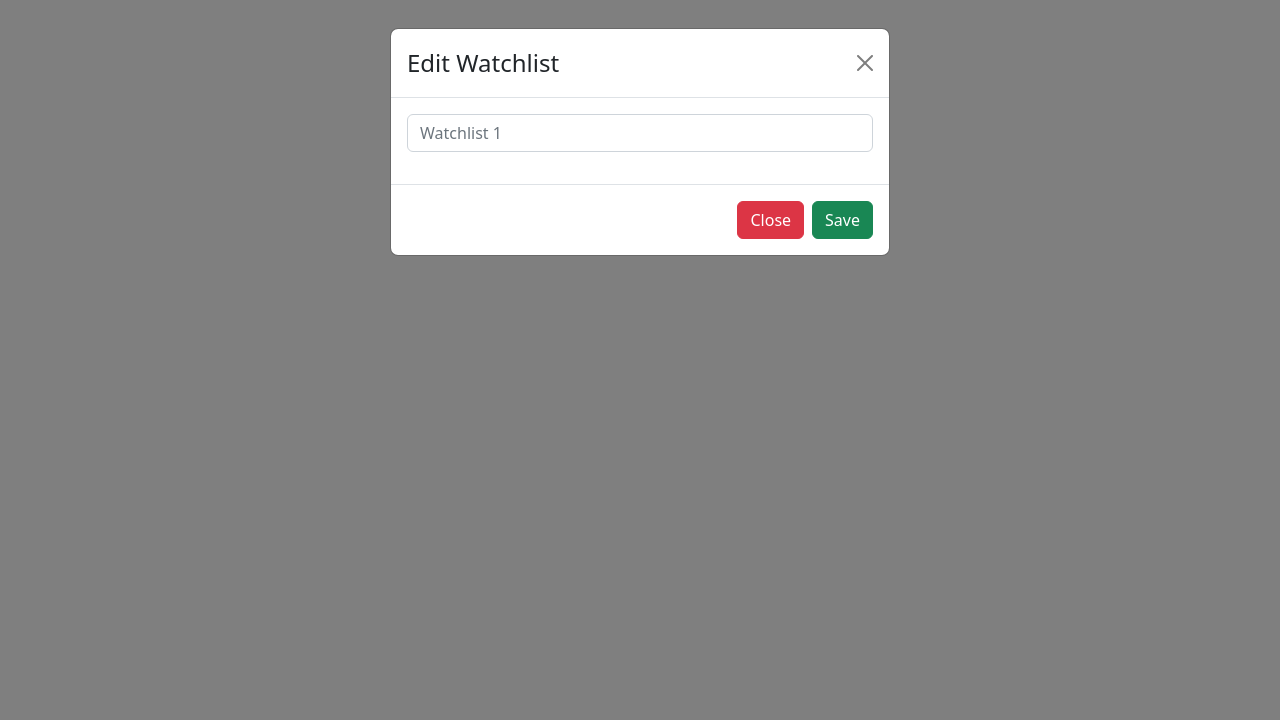
Edit Watchlist Modal › should display error message if watchlistName is not entered when Save button is clicked
Click the button "Save" at {"x": 843, "y": 220}, box x1=812 y1=201 x2=873 y2=239
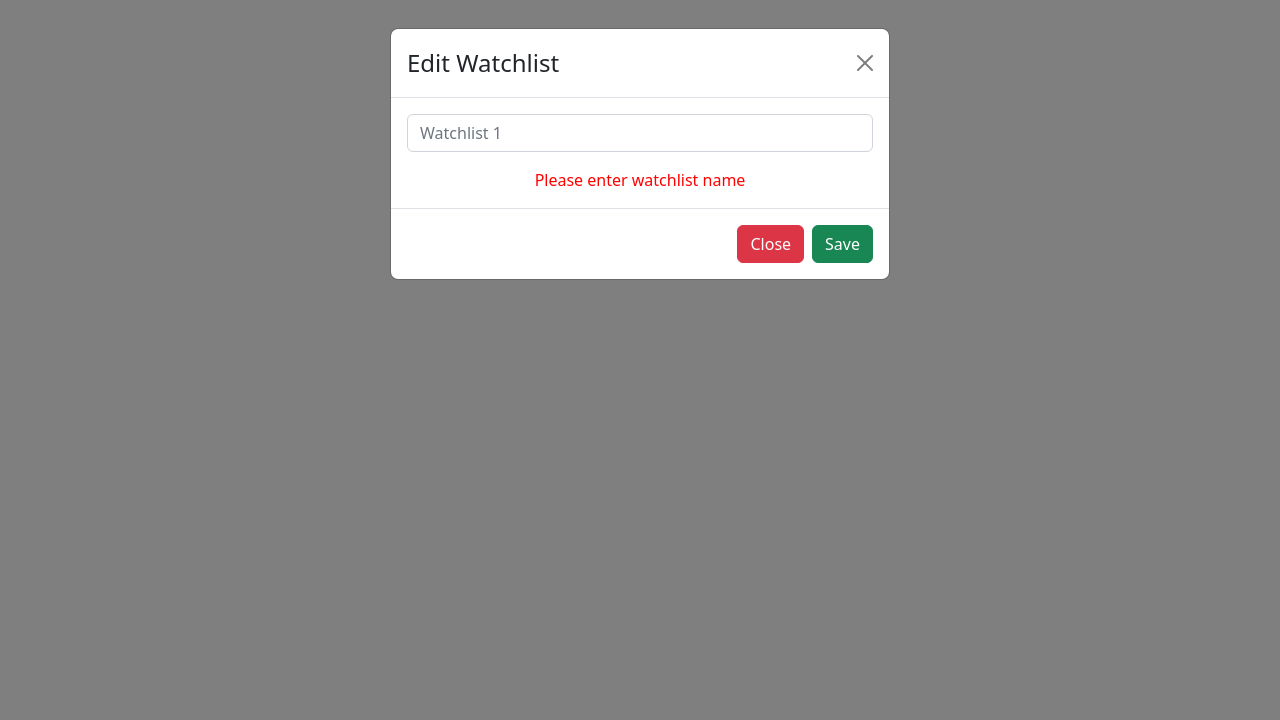
Expected: the text "Please enter watchlist name" is shown, x1=535 y1=169 x2=745 y2=191
